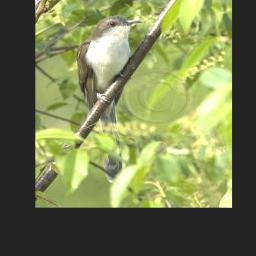Cuckoo: (78, 10, 143, 161)
